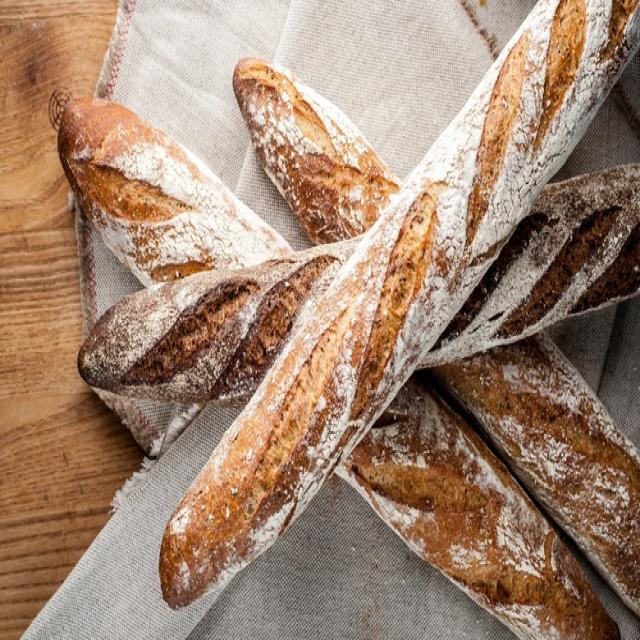Baguette: (159, 0, 638, 606), (335, 378, 619, 637), (431, 332, 639, 614), (51, 91, 291, 283), (78, 241, 356, 405), (421, 165, 639, 367), (234, 58, 399, 243)
